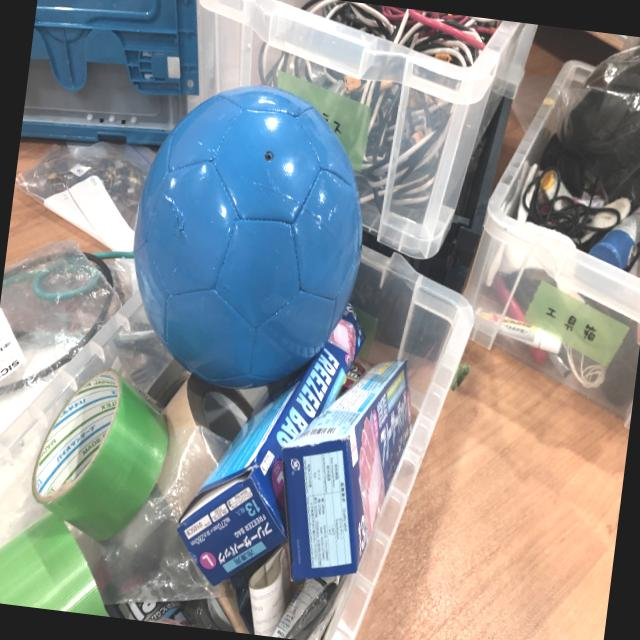blue_ball: (114, 73, 389, 401)
